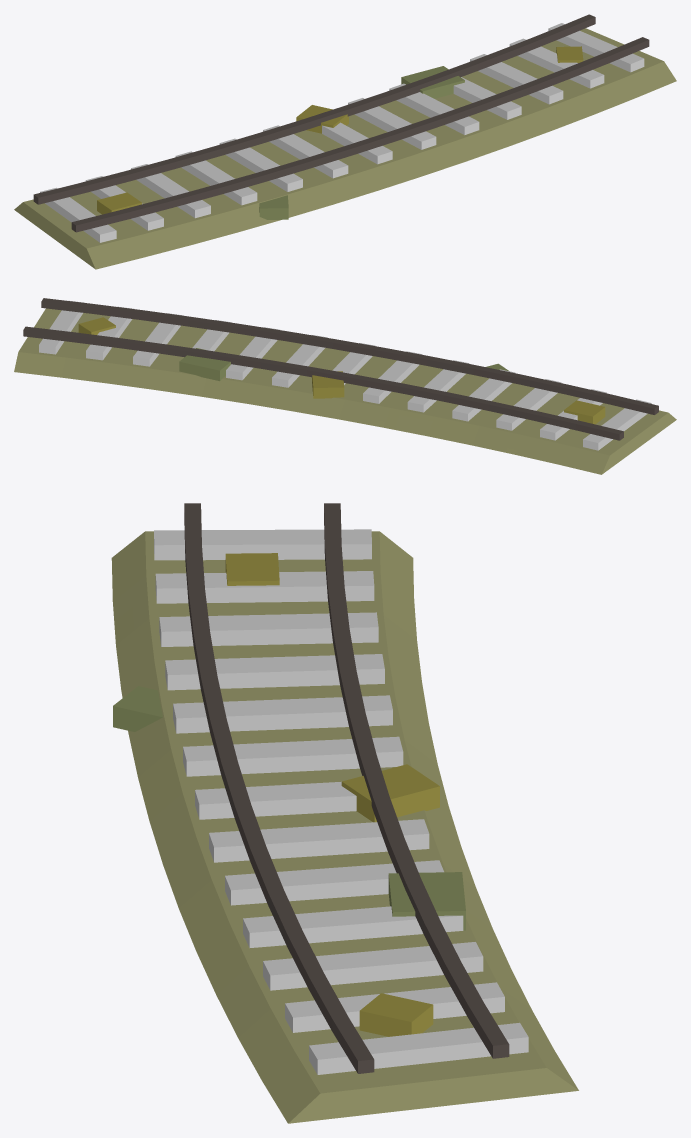
File: SM_Via_CurvaR60_v2_Maleza_LOD1.fbx
The picture shows the model from 3 angles, top to bottom: view 1: azimuth 30°, elevation 25°; view 2: azimuth 150°, elevation 25°; view 3: azimuth 270°, elevation 25°; orthographic projection. The views are drawn at different scales.
Visible parts, largest first — view 1: SM_via_trazado_v12_LOD1; view 2: SM_via_trazado_v12_LOD1; view 3: SM_via_trazado_v12_LOD1.
Part boxes in pixels (x1,y1,x2,y2): SM_via_trazado_v12_LOD1: [14, 14, 676, 269]; SM_via_trazado_v12_LOD1: [14, 298, 676, 474]; SM_via_trazado_v12_LOD1: [111, 503, 578, 1123].
Size of the model in its own units: 16 by 0.72 by 5.58.
